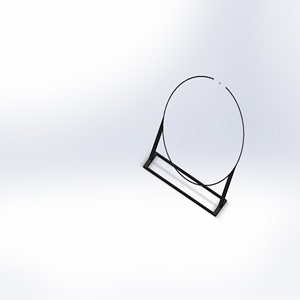circle: (141, 71, 247, 218)
